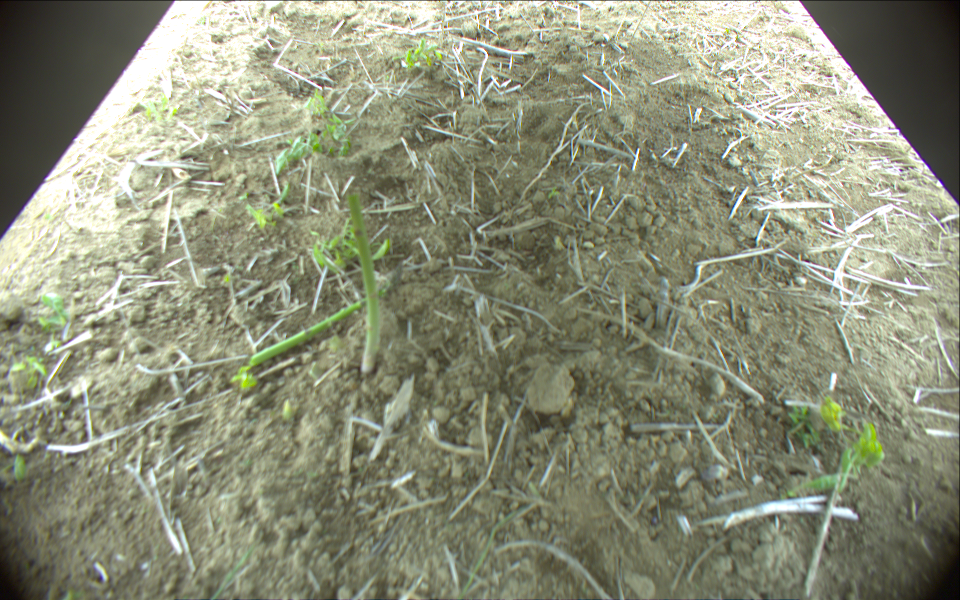aspa: (247, 300, 364, 366), (347, 191, 381, 377)
